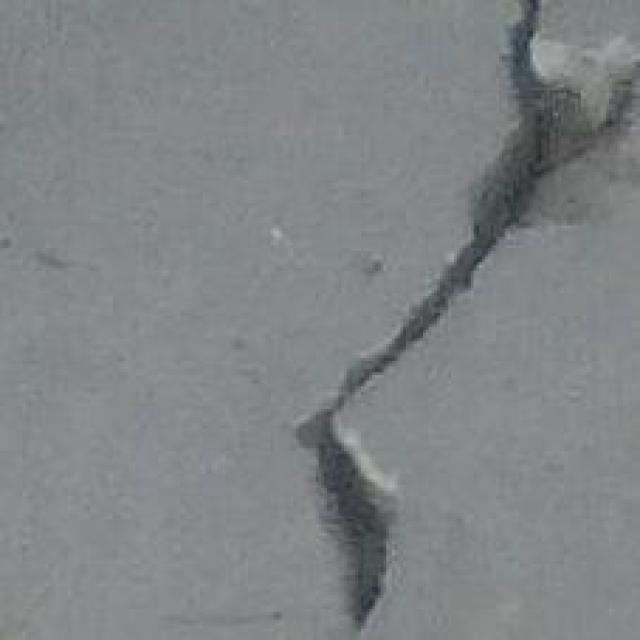Diagonal: (293, 277, 454, 430)
Longitudinal: (290, 433, 406, 640)
Network: (457, 0, 640, 270)
